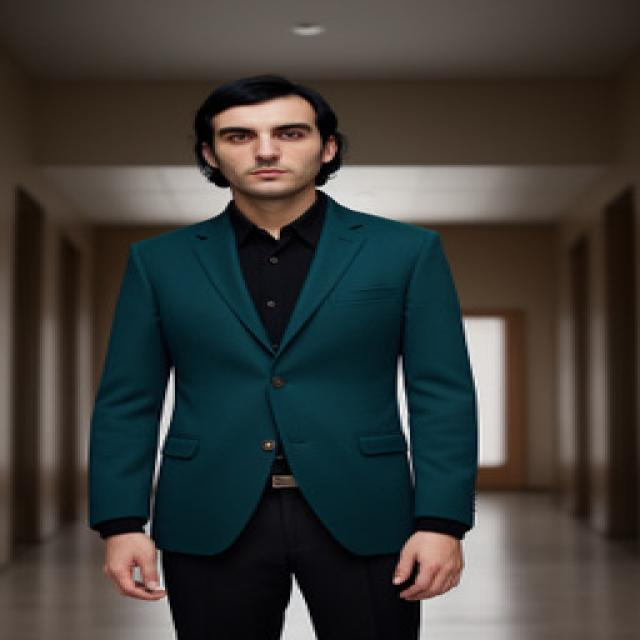Ai human 2: (71, 59, 518, 640)
